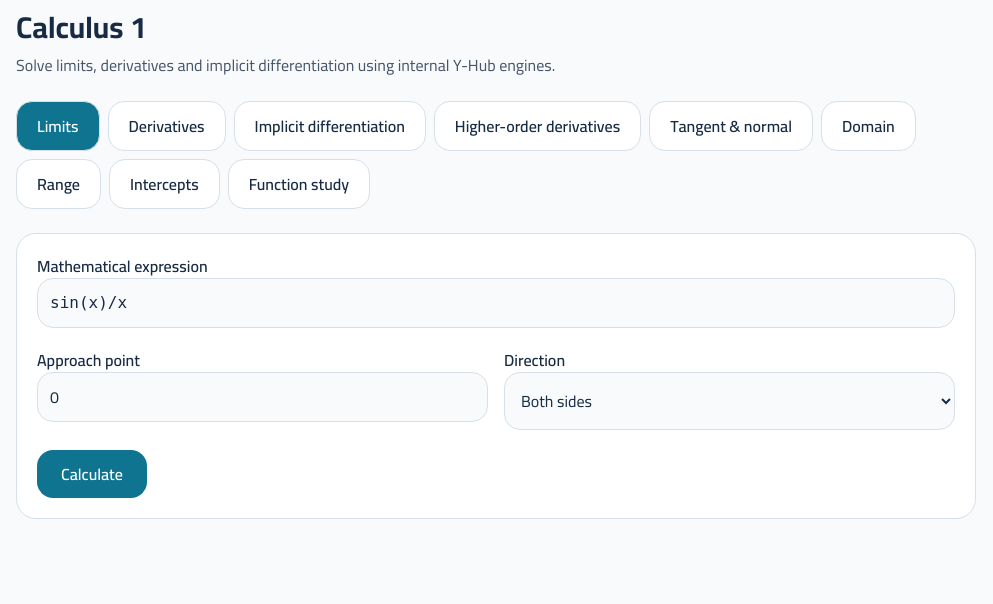
Test: Calculus 1 exact domain UI › does not mislabel unsupported input
This screenshot has width=993, height=604.
Click the tab "Domain". click: (868, 126)
box: [821,101,916,151]
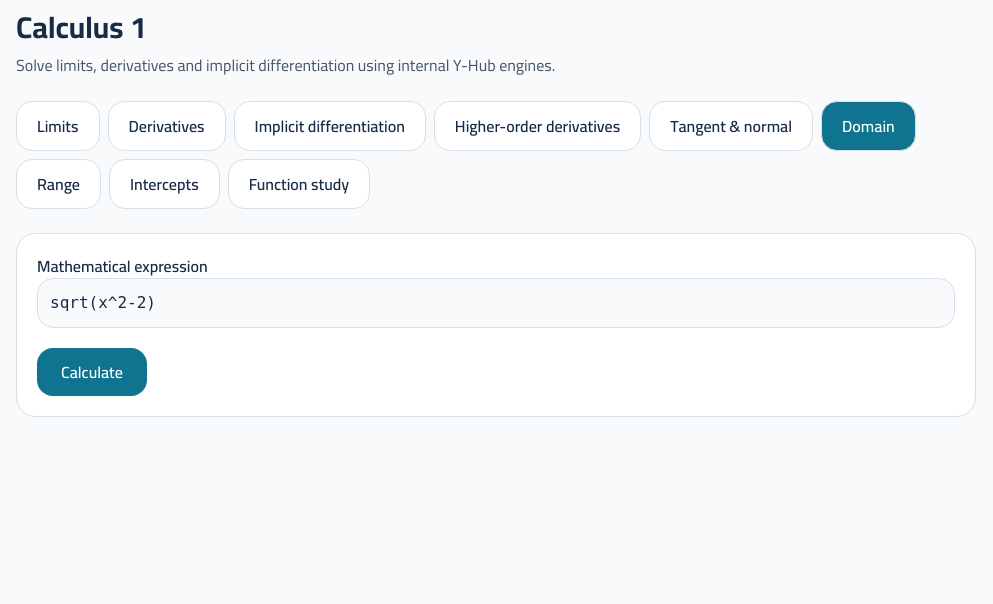
Type "x^x" into the field labelled "Mathematical expression". click: (496, 303)
box: [37,278,955,328]
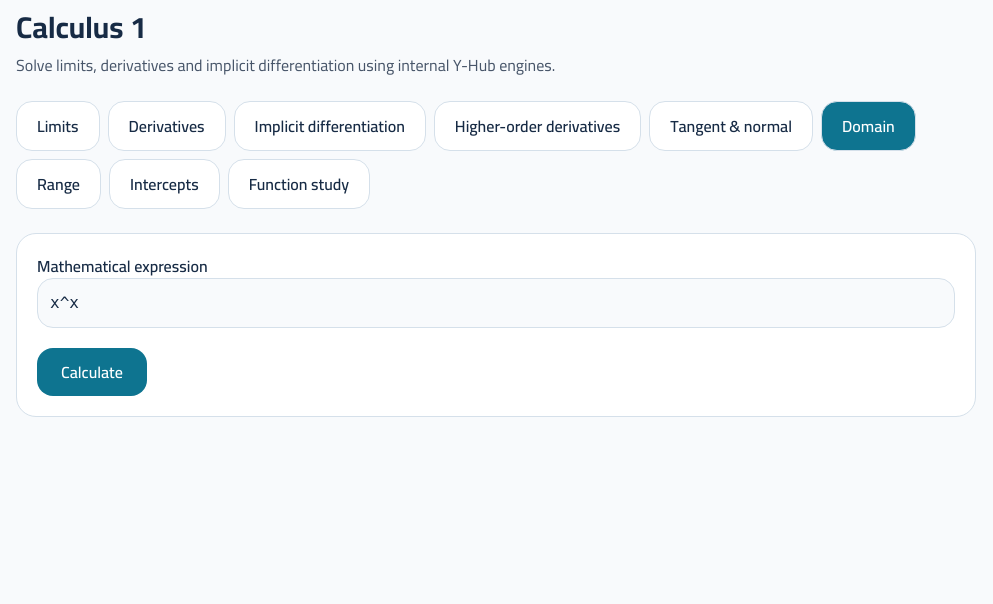
Click the button "Calculate". click: (92, 372)
box: [37,348,147,396]
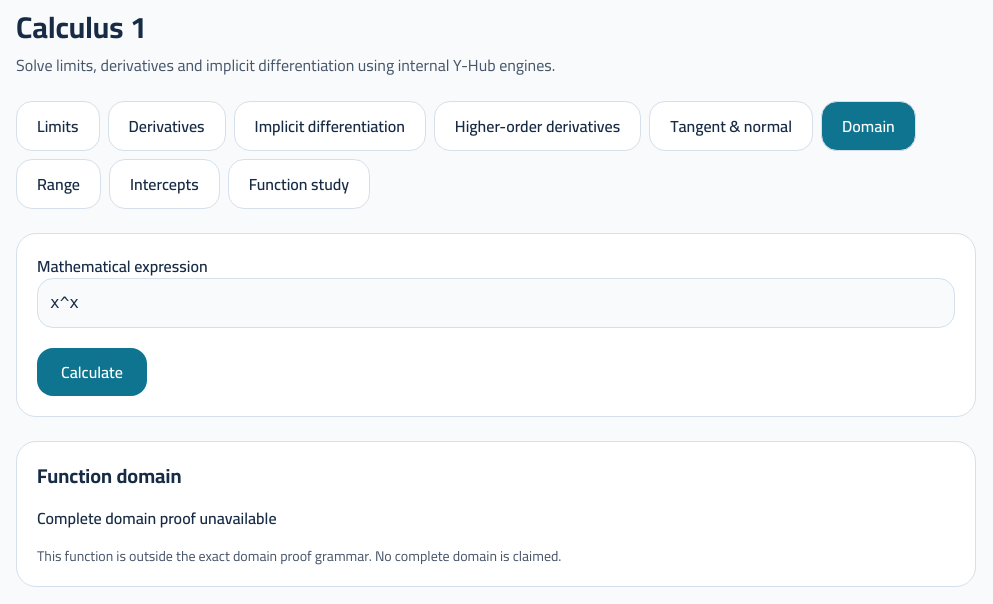
Now the element named "Unverified real domain" is shown, box [16,441,976,587]
